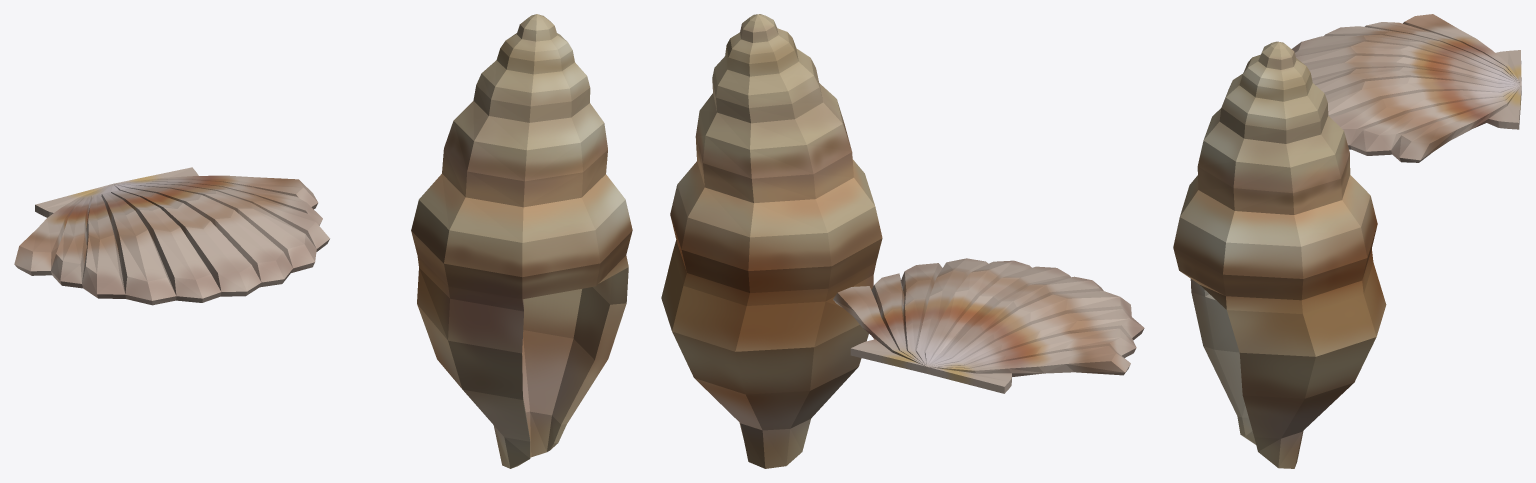
The model's file is Seashell.glb.
3 renders of one model, left to right at view 1: azimuth 30°, elevation 25°; view 2: azimuth 150°, elevation 25°; view 3: azimuth 270°, elevation 25°, orthographic. The views are drawn at different scales.
Parts seen in each view (by area): view 1: Node; view 2: Node; view 3: Node.
Part boxes in pixels (box(x1,y1,x2,y2)): Node: box(14, 14, 632, 468); Node: box(661, 14, 1144, 468); Node: box(1173, 14, 1521, 468).
Bounding box in the file's own units: 5.26 × 4.29 × 3.16.
2 materials, 2 textured.
